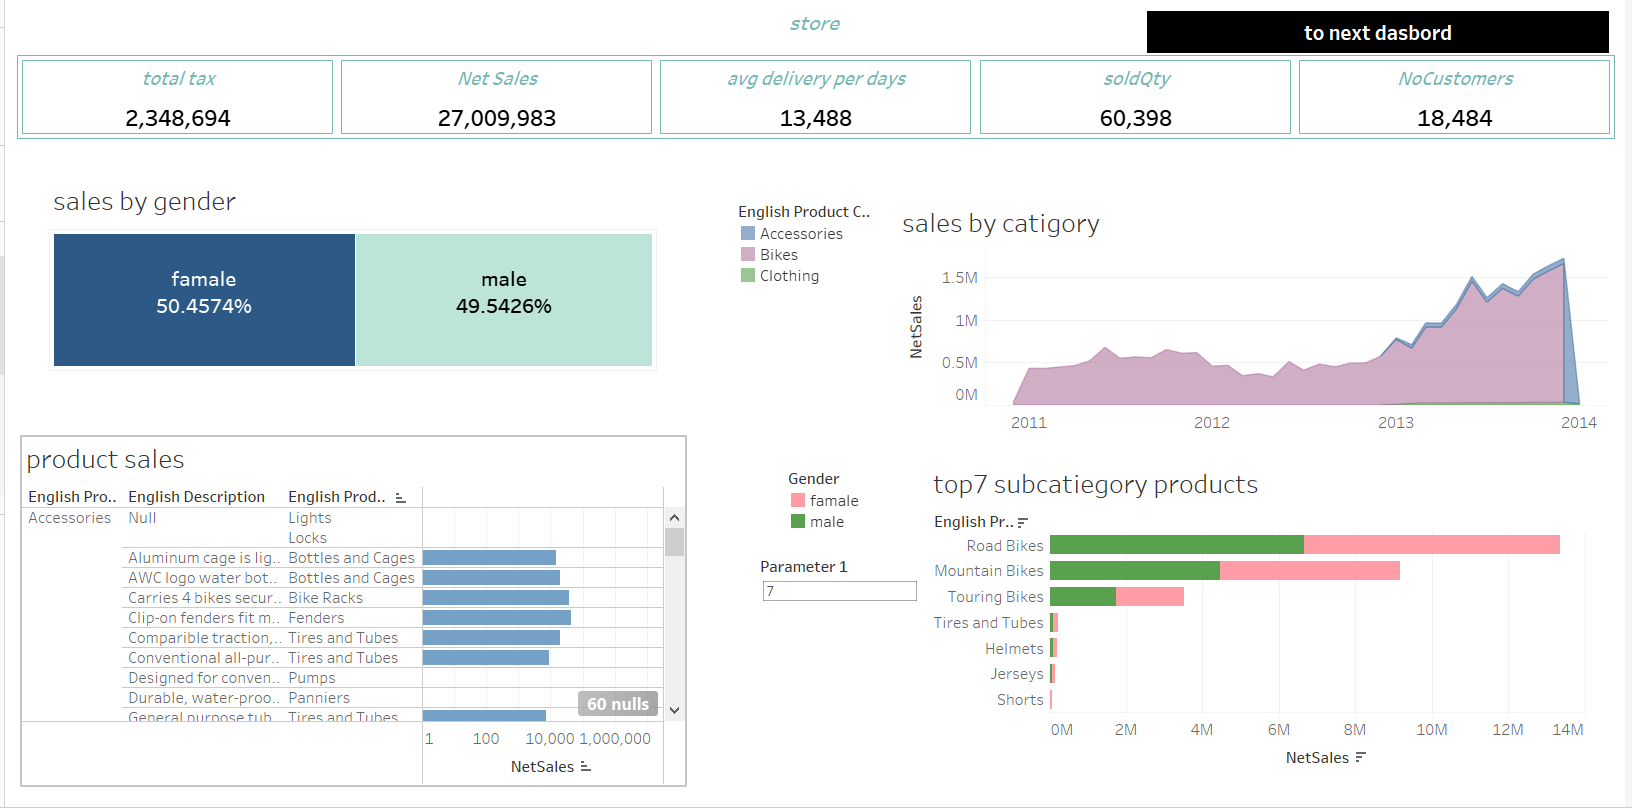

Layout of this report page (visuals, bound fields, positions):
{"tool":"tableau","page":{"name":"store","canvas":[1620,860],"ordinal":1},"visuals":[{"type":"title","box":[8,8,1604,39]},{"type":"dashboard-object","box":[1142,16,462,42]},{"type":"worksheet","title":"total tax","mark":"Automatic","box":[13,61,319.2,82]},{"type":"worksheet","title":"Net Sales","mark":"Automatic","box":[332.2,61,319.2,82]},{"type":"worksheet","title":"avg delivery per days","mark":"Automatic","box":[651.4,61,319.2,82]},{"type":"worksheet","title":"soldQty","mark":"Automatic","box":[970.6,61,319.2,82]},{"type":"worksheet","title":"NoCustomers","mark":"Automatic","box":[1289.8,61,319.2,82]},{"type":"worksheet","title":"sales by gender","mark":"Automatic","box":[44,184,608,193]},{"type":"legend","title":"sales by catigory","param":"[federated.17nahxy1bm8uze1935uru0muv8xb].[none:EnglishProductCategoryName:nk]","box":[733,206,140,85]},{"type":"worksheet","title":"sales by catigory","mark":"Area","rows":["Calculation_874261331136483329"],"cols":["FullDateAlternateKey"],"box":[893,206,710,234]},{"type":"worksheet","title":"product sales","mark":"Automatic","rows":["EnglishProductCategoryName","EnglishDescription","EnglishProductSubcategoryName"],"cols":["Calculation_874261331136483329"],"box":[17,442,663,348]},{"type":"worksheet","title":"top5 subcatiegory products","mark":"Automatic","rows":["EnglishProductSubcategoryName"],"cols":["Calculation_874261331136483329"],"box":[924,467,657,313]},{"type":"legend","title":"top5 subcatiegory products","param":"[federated.17nahxy1bm8uze1935uru0muv8xb].[none:Gender:nk]","box":[783,473,140,64]},{"type":"parameter","param":"[Parameters].[Parameter 1]","box":[755,561,160,48]}]}

Visuals, with their boxes on the page's 1620x860 design canvas (x1, y1, x2, y2). These are canvas units, not pixel positions in the 1632x808 screenshot, which may show the page scaled, cropped or inside an application window:
title: (8,8,1612,47)
dashboard-object: (1142,16,1604,58)
"total tax" worksheet: (13,61,332,143)
"Net Sales" worksheet: (332,61,651,143)
"avg delivery per days" worksheet: (651,61,971,143)
"soldQty" worksheet: (971,61,1290,143)
"NoCustomers" worksheet: (1290,61,1609,143)
"sales by gender" worksheet: (44,184,652,377)
"sales by catigory" legend: (733,206,873,291)
"sales by catigory" worksheet (Area marks): (893,206,1603,440)
"product sales" worksheet: (17,442,680,790)
"top5 subcatiegory products" worksheet: (924,467,1581,780)
"top5 subcatiegory products" legend: (783,473,923,537)
parameter: (755,561,915,609)
